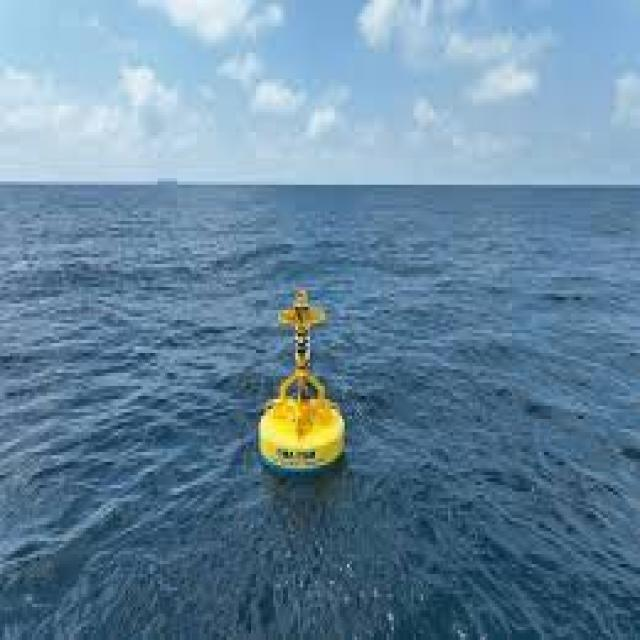buoy: (254, 294, 354, 476)
